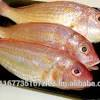Ikan Kerisi: (1, 49, 95, 95), (7, 23, 100, 69)
